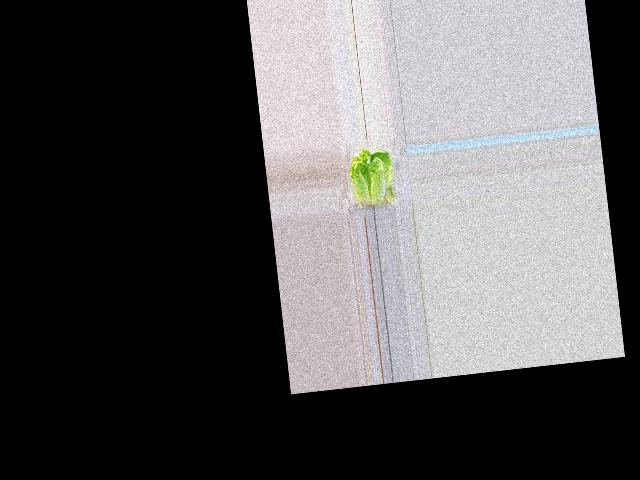lettuce: (347, 145, 396, 206)
